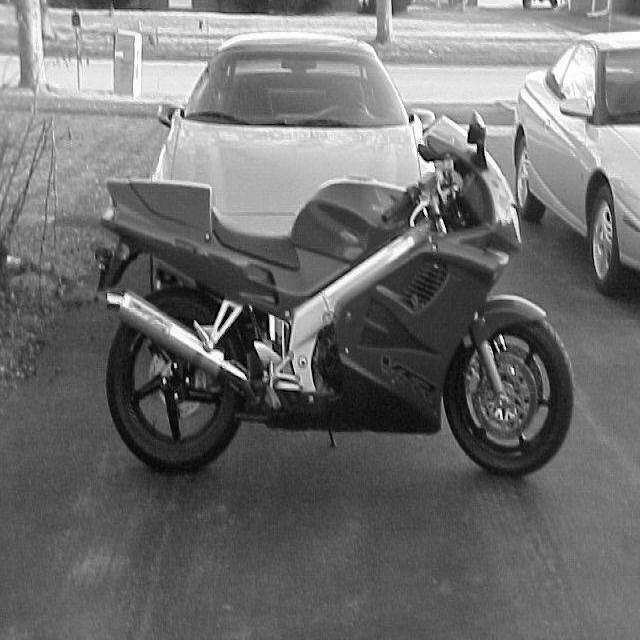Car: (156, 33, 422, 265), (516, 31, 640, 294)
Motorcycle: (99, 118, 575, 476)
